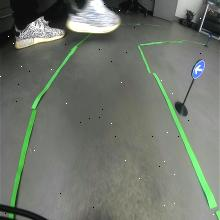left: (190, 59, 206, 79)
